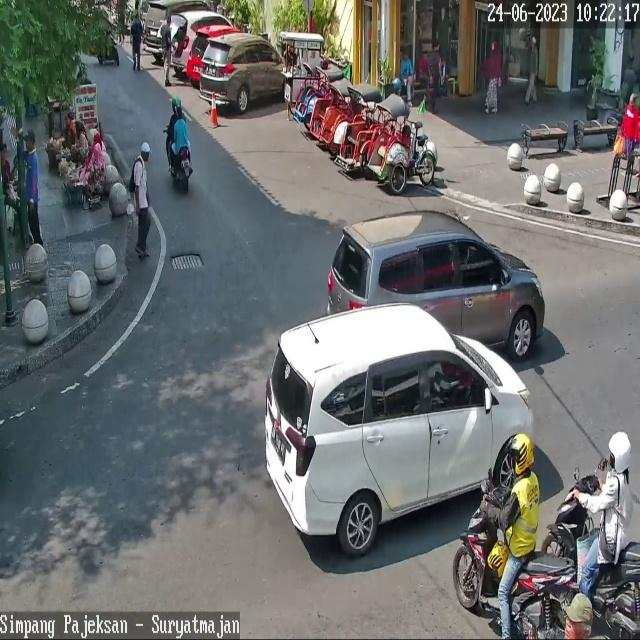bus: (455, 483, 581, 640), (542, 474, 640, 640), (169, 144, 195, 191)
motorcycle: (266, 304, 534, 557), (330, 211, 546, 360), (201, 34, 281, 113), (164, 9, 233, 67), (144, 0, 212, 54), (186, 24, 242, 82)
